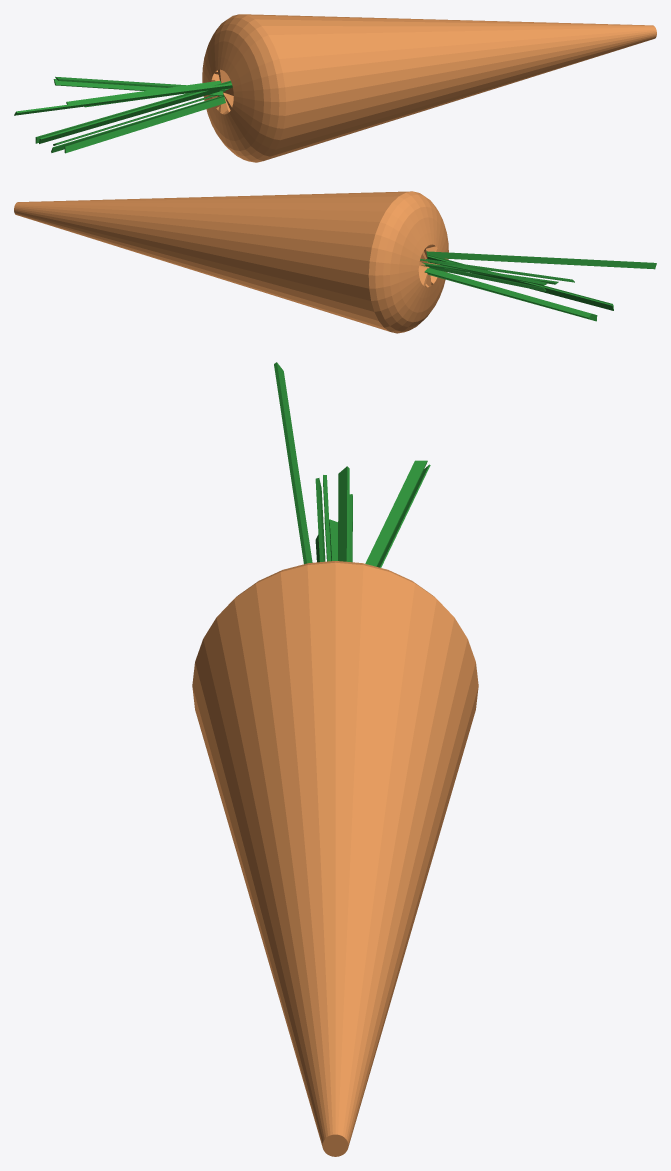
The model's file is CARROTS.fbx.
3 renders of one model, top to bottom at view 1: azimuth 30°, elevation 25°; view 2: azimuth 150°, elevation 25°; view 3: azimuth 270°, elevation 25°, orthographic. The views are drawn at different scales.
Visible parts, largest first — view 1: CARROTS; view 2: CARROTS; view 3: CARROTS.
Boxes of the visible parts, bbox=[...] form: CARROTS: bbox=[14, 14, 656, 162]; CARROTS: bbox=[14, 191, 656, 333]; CARROTS: bbox=[192, 362, 478, 1156].
Size of the model in its own units: 1008 by 199 by 200.
